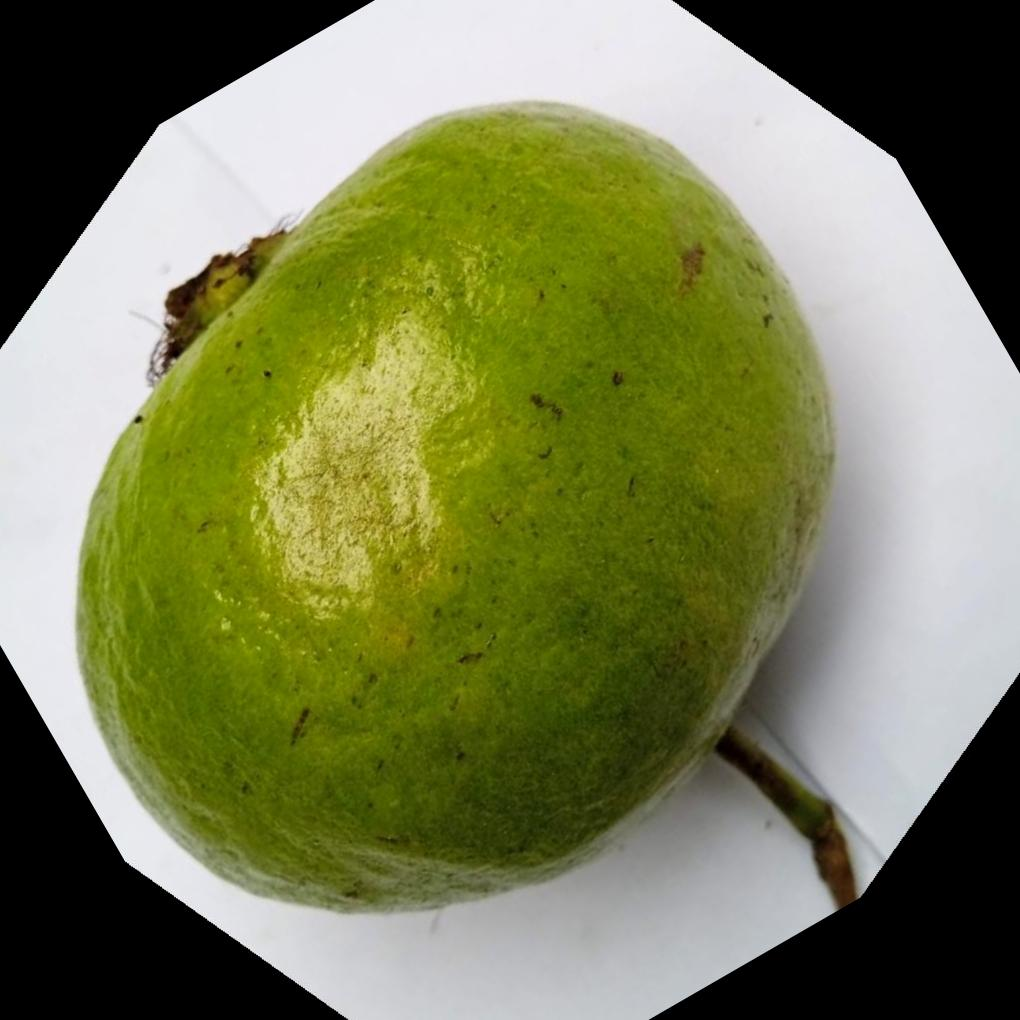FreshGuava: (69, 98, 835, 918)
